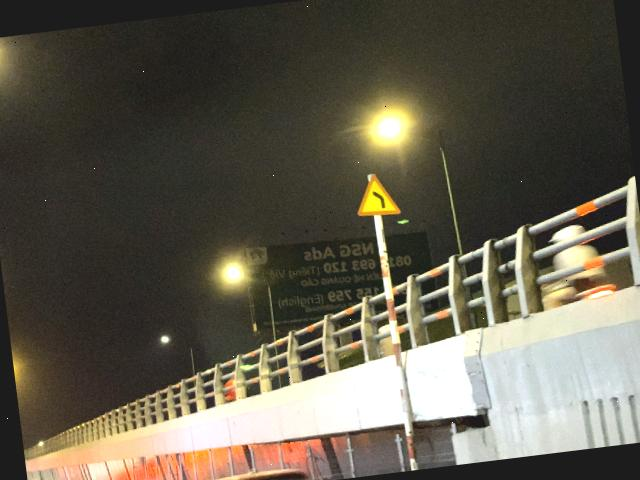cho-ngoat-nguy-hiem-ben-phai: (352, 170, 400, 218)
